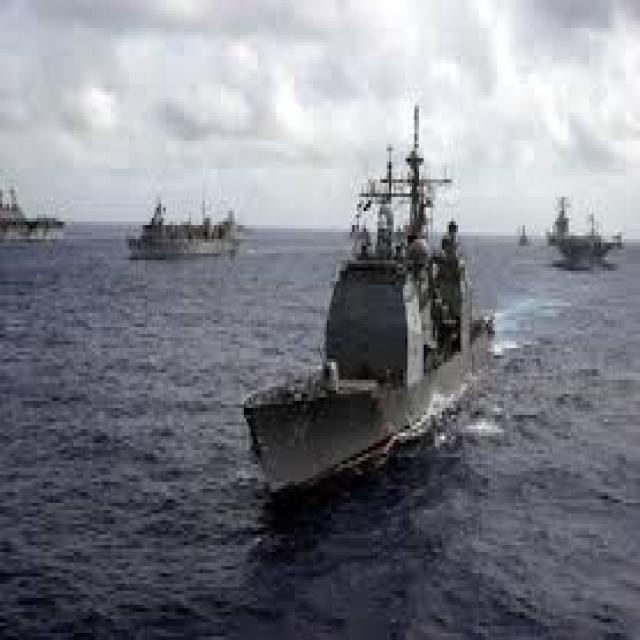navalvessels: (217, 135, 506, 488), (128, 171, 250, 260), (540, 172, 626, 271), (0, 190, 80, 254)
